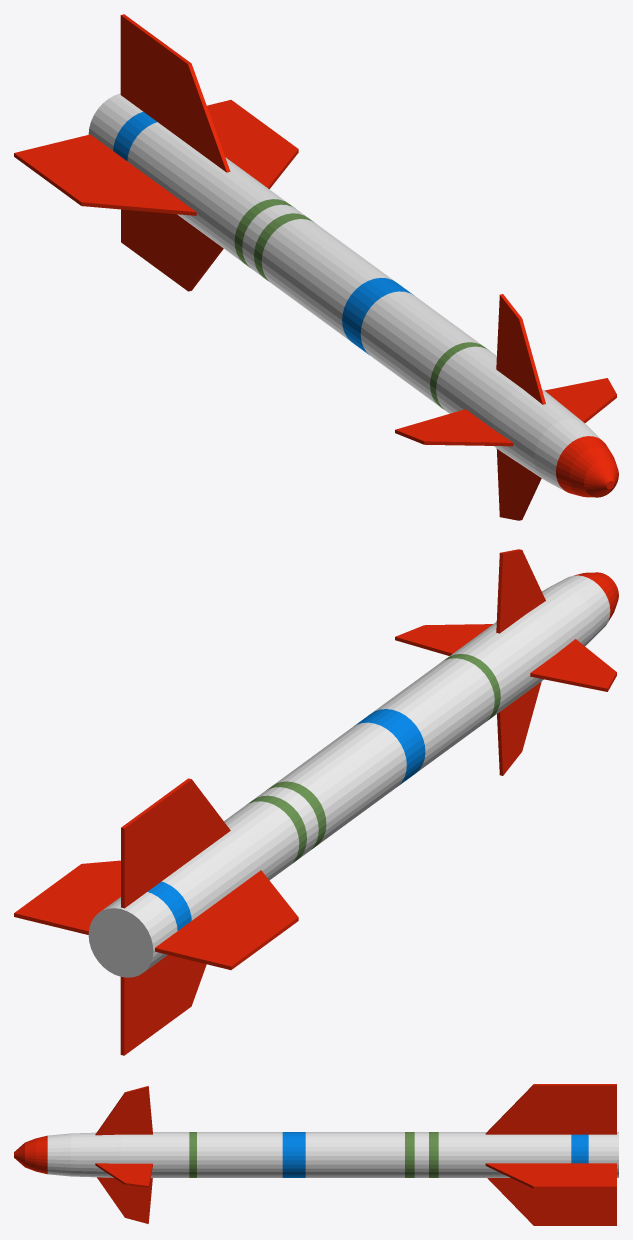
The model's file is missile.dae.
3 views of the same model, one above another, from view 1: azimuth 30°, elevation 25°; view 2: azimuth 150°, elevation 25°; view 3: azimuth 270°, elevation 25° (orthographic). The views are drawn at different scales.
Parts seen in each view (by area): view 1: missile, Cube.001, Cube.007, Cube.005, Cube.003, Cube, Cube.006, Cube.004, Cube.002; view 2: missile, Cube.001, Cube.007, Cube.005, Cube.003, Cube, Cube.006, Cube.004, Cube.002; view 3: missile, Cube.001, Cube.005, Cube.003, Cube, Cube.004, Cube.002.
Boxes of the visible parts, left/top/right/bottom form: missile: left=88, top=93, right=618, bottom=497; Cube.001: left=120, top=14, right=230, bottom=172; Cube.007: left=14, top=134, right=196, bottom=215; Cube.005: left=121, top=209, right=223, bottom=291; Cube.003: left=207, top=100, right=298, bottom=189; Cube: left=496, top=294, right=545, bottom=404; Cube.006: left=395, top=409, right=513, bottom=446; Cube.004: left=496, top=448, right=541, bottom=520; Cube.002: left=544, top=378, right=616, bottom=422; missile: left=88, top=572, right=618, bottom=977; Cube.001: left=121, top=778, right=230, bottom=908; Cube.007: left=155, top=870, right=298, bottom=969; Cube.005: left=120, top=955, right=206, bottom=1055; Cube.003: left=14, top=860, right=120, bottom=934; Cube: left=496, top=549, right=545, bottom=633; Cube.006: left=530, top=639, right=616, bottom=691; Cube.004: left=497, top=681, right=541, bottom=775; Cube.002: left=395, top=624, right=492, bottom=655; missile: left=14, top=1132, right=618, bottom=1177; Cube.001: left=485, top=1084, right=616, bottom=1134; Cube.005: left=487, top=1178, right=616, bottom=1225; Cube.003: left=485, top=1163, right=616, bottom=1188; Cube: left=95, top=1086, right=152, bottom=1135; Cube.004: left=97, top=1177, right=152, bottom=1223; Cube.002: left=95, top=1163, right=152, bottom=1187.
Bounding box in the file's own units: 1.44 × 5.61 × 1.44.
